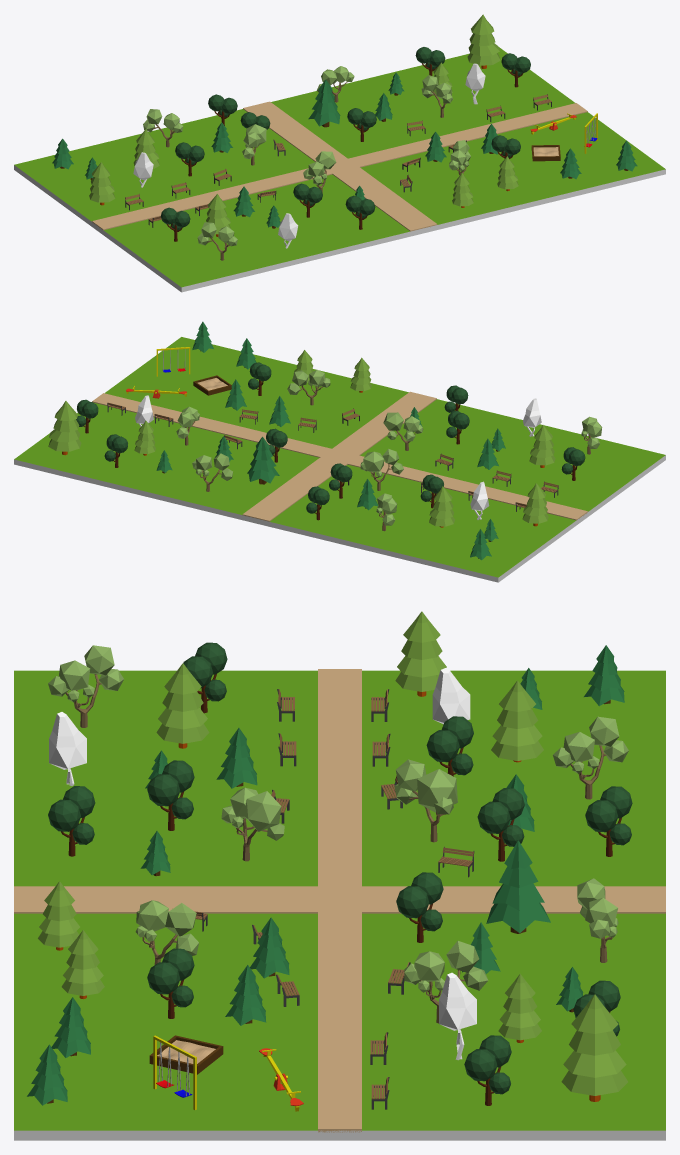
Rendered from Park 3x5.gltf.
3 renders of one model, top to bottom at view 1: azimuth 30°, elevation 25°; view 2: azimuth 150°, elevation 25°; view 3: azimuth 270°, elevation 25°, orthographic. The views are drawn at different scales.
Parts seen in each view (by area): view 1: BAZA 2x2.017, DRVO 3.011, jelke.010, Low poly tree.006, Tree 4.028, kluice.009, Icosphere.006, Tree 3.011, Tree 4.029, Tree 4.027, Cube.007; view 2: BAZA 2x2.017, DRVO 3.011, Low poly tree.006, jelke.010, Tree 4.028, kluice.009, Icosphere.006, Tree 4.027, Tree 3.011, Cube.007, Tree 4.029; view 3: BAZA 2x2.017, DRVO 3.011, Low poly tree.006, jelke.010, Tree 4.028, Icosphere.006, kluice.009, Tree 4.027, Tree 4.029, Tree 3.011, Cube.007, Cube.001.
Boxes of the visible parts, x1,y1,x2,y2 form: BAZA 2x2.017: (14,47,665,292); DRVO 3.011: (160,47,530,241); jelke.010: (52,72,637,228); Low poly tree.006: (89,14,518,236); Tree 4.028: (143,66,470,260); kluice.009: (125,94,551,227); Icosphere.006: (133,63,485,248); Tree 3.011: (303,151,336,192); Tree 4.029: (421,75,453,117); Tree 4.027: (242,124,266,165); Cube.007: (531,145,560,161); BAZA 2x2.017: (14,337,665,582); DRVO 3.011: (76,362,585,520); Low poly tree.006: (48,350,555,527); jelke.010: (156,321,505,560); Tree 4.028: (192,369,602,531); kluice.009: (107,402,558,511); Icosphere.006: (135,395,541,519); Tree 4.027: (360,449,403,490); Tree 3.011: (383,412,423,450); Cube.007: (193,375,231,395); Tree 4.029: (176,406,199,445); BAZA 2x2.017: (14,669,665,1140); DRVO 3.011: (48,642,632,1105); Low poly tree.006: (38,611,627,1101); jelke.010: (27,645,624,1105); Tree 4.028: (48,645,628,964); Icosphere.006: (49,668,476,1060); kluice.009: (172,689,474,1109); Tree 4.027: (394,759,457,842); Tree 4.029: (404,941,488,1023); Tree 3.011: (221,787,284,861); Cube.007: (149,1035,223,1074); Cube.001: (153,1035,196,1109).
Size of the model in its own units: 10 by 1.21 by 5.99.
25 materials, 1 textured.
